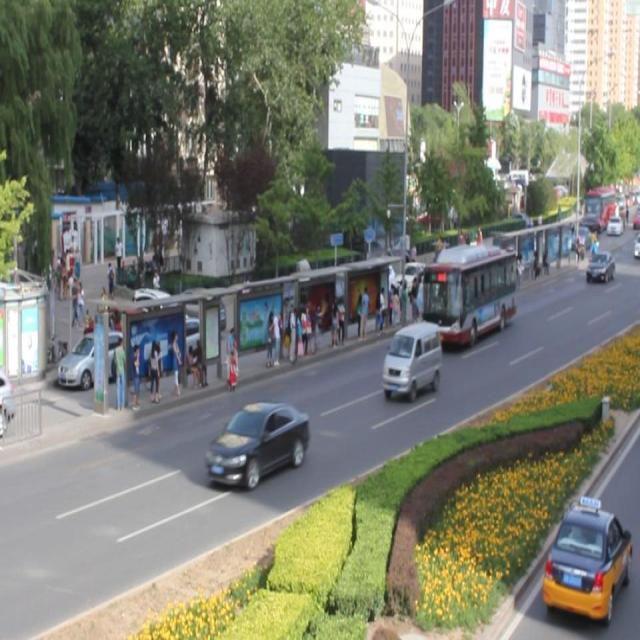car: (208, 398, 310, 482)
truck: (382, 322, 441, 394)
van: (423, 243, 514, 344)
